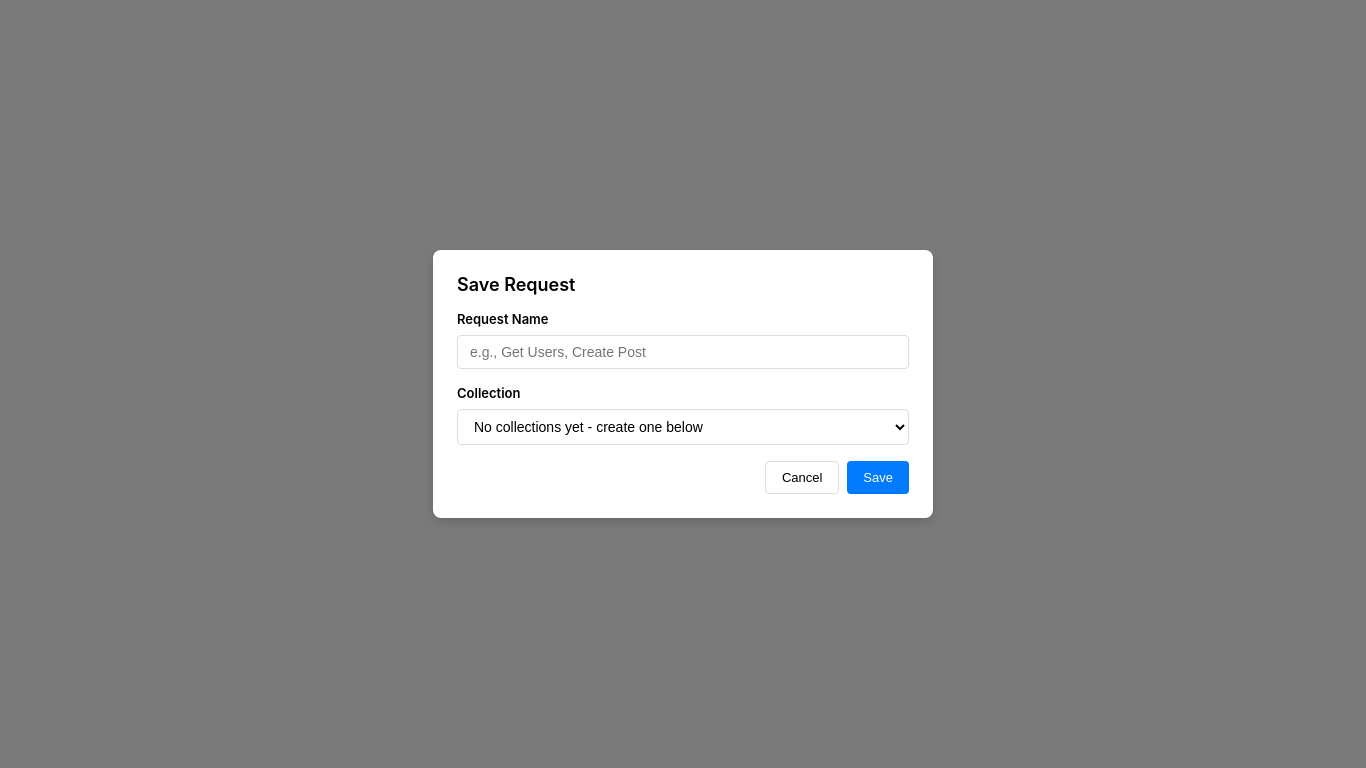
Test: SaveRequestDialog › Create new collection inline › should validate new collection name is not empty
Select "Create New Collection" in the dropdown labelled "Collection". click: (683, 427)
box: [457,409,909,445]
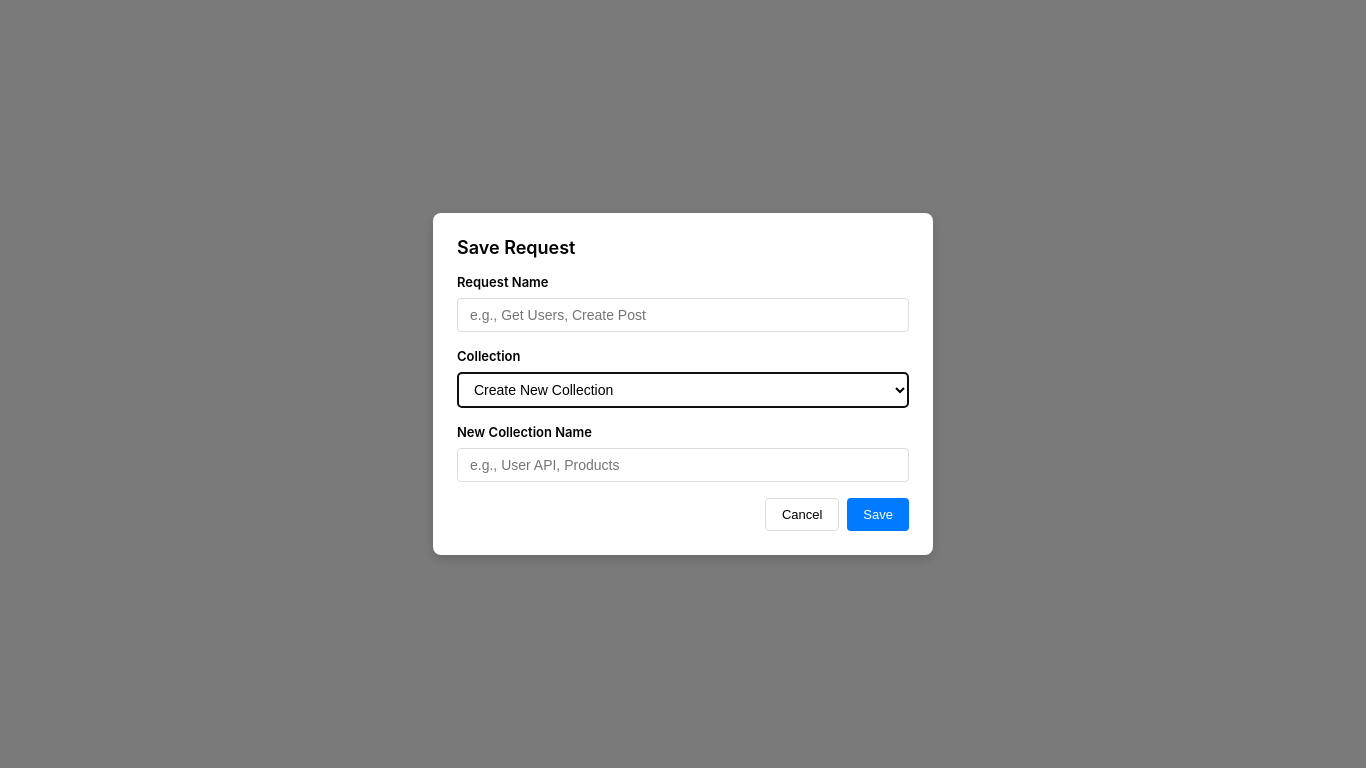
Type "Test Request" into the field labelled "Request Name". click: (683, 315)
box: [457,298,909,332]
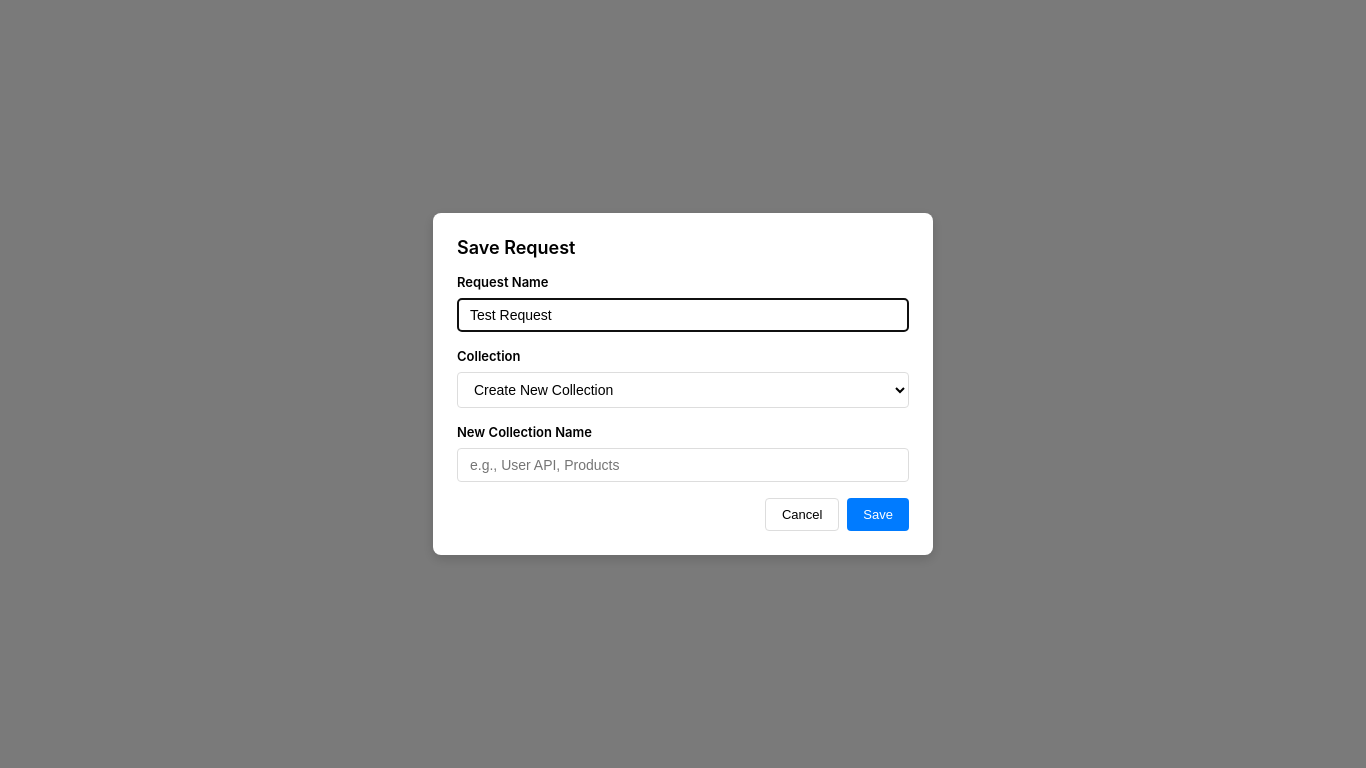
Click the button "Save". click: (878, 514)
box: [847,498,909,531]
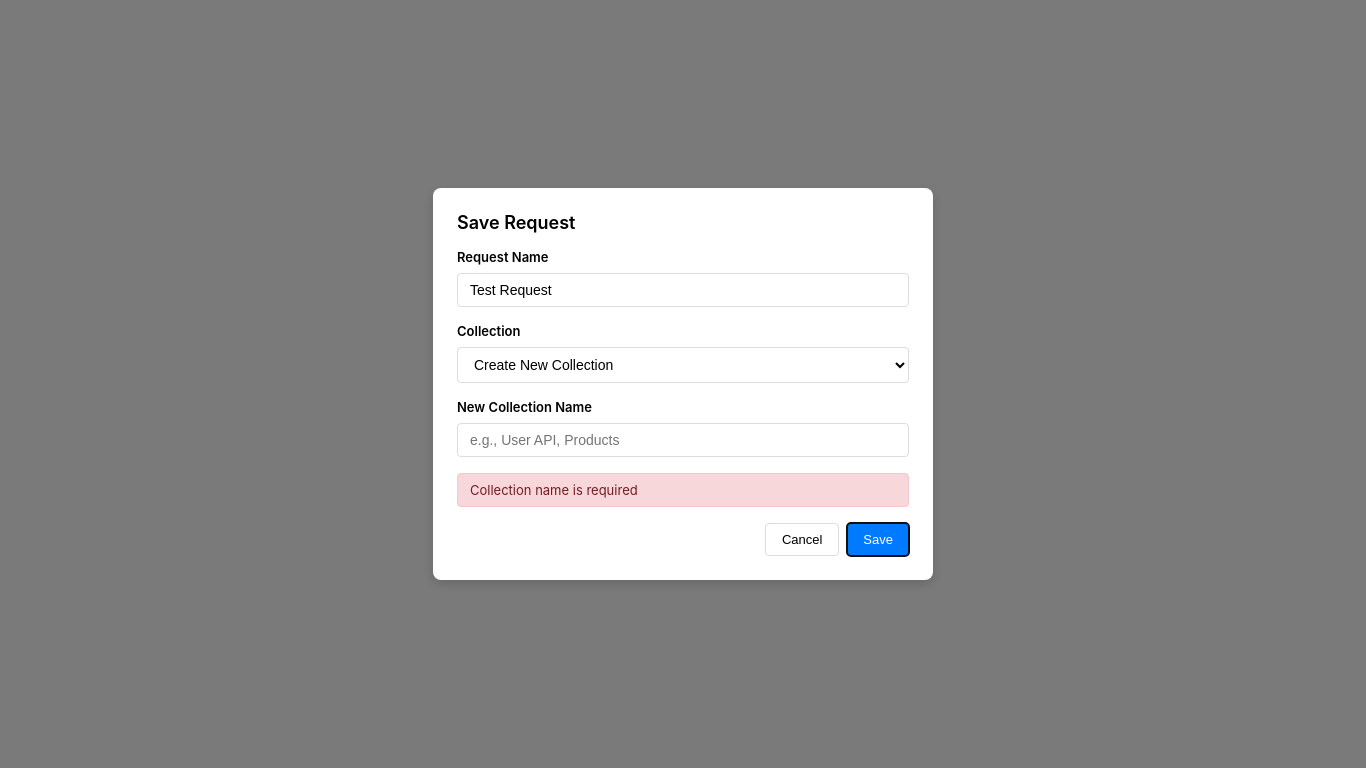
Check: the text "Collection name is required" is shown, box [457,473,909,507]
